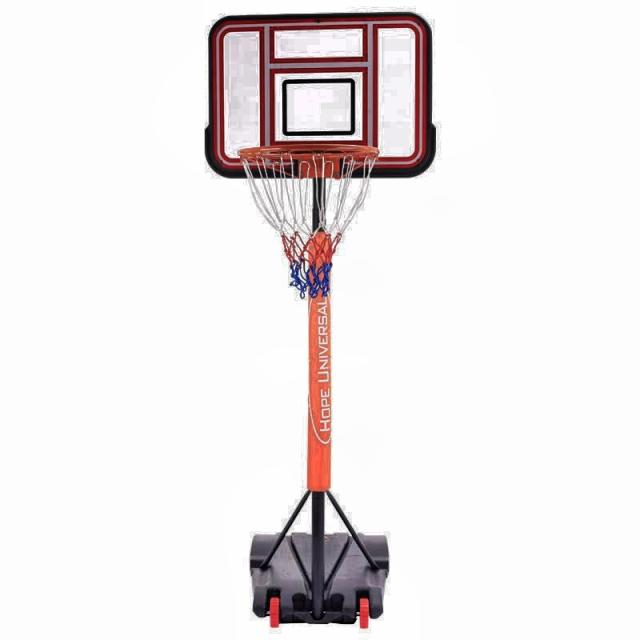rim: (237, 145, 381, 300)
